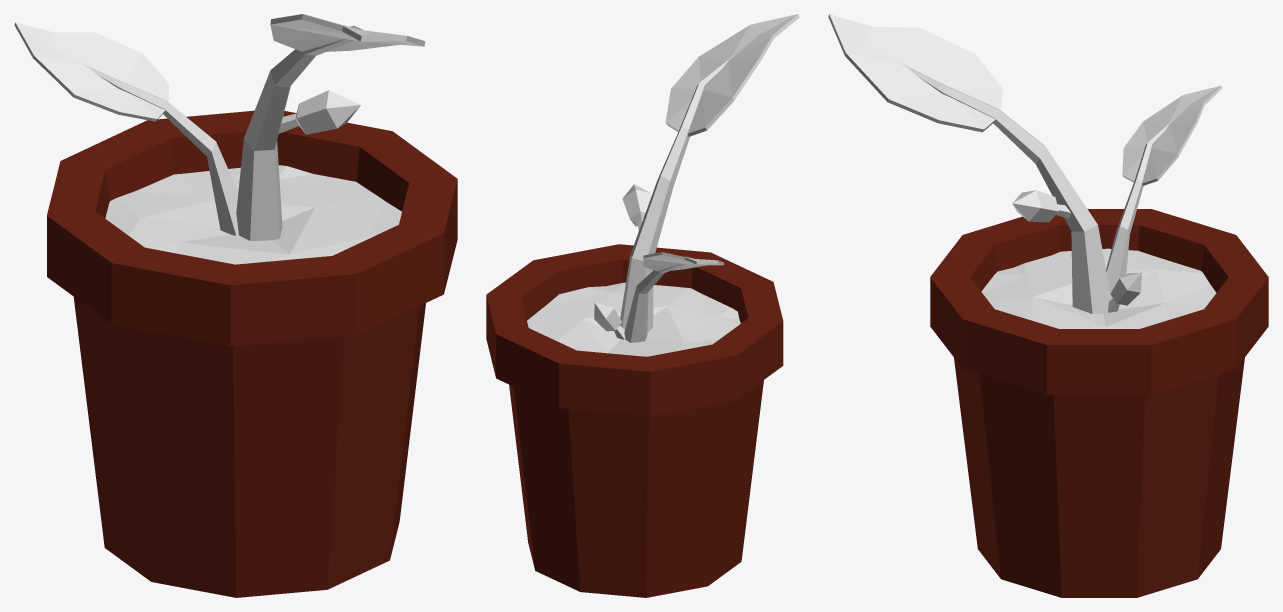
The model's file is Plant.fbx.
3 renders of one model, left to right at view 1: azimuth 30°, elevation 25°; view 2: azimuth 150°, elevation 25°; view 3: azimuth 270°, elevation 25°, orthographic. The views are drawn at different scales.
Parts seen in each view (by area): view 1: pflanze_element; view 2: pflanze_element; view 3: pflanze_element.
Part boxes in pixels (box(x1,y1,x2,y2)): pflanze_element: box(14, 14, 457, 597); pflanze_element: box(486, 14, 799, 597); pflanze_element: box(828, 14, 1268, 597).
Bounding box in the file's own units: 215 × 378 × 295.
